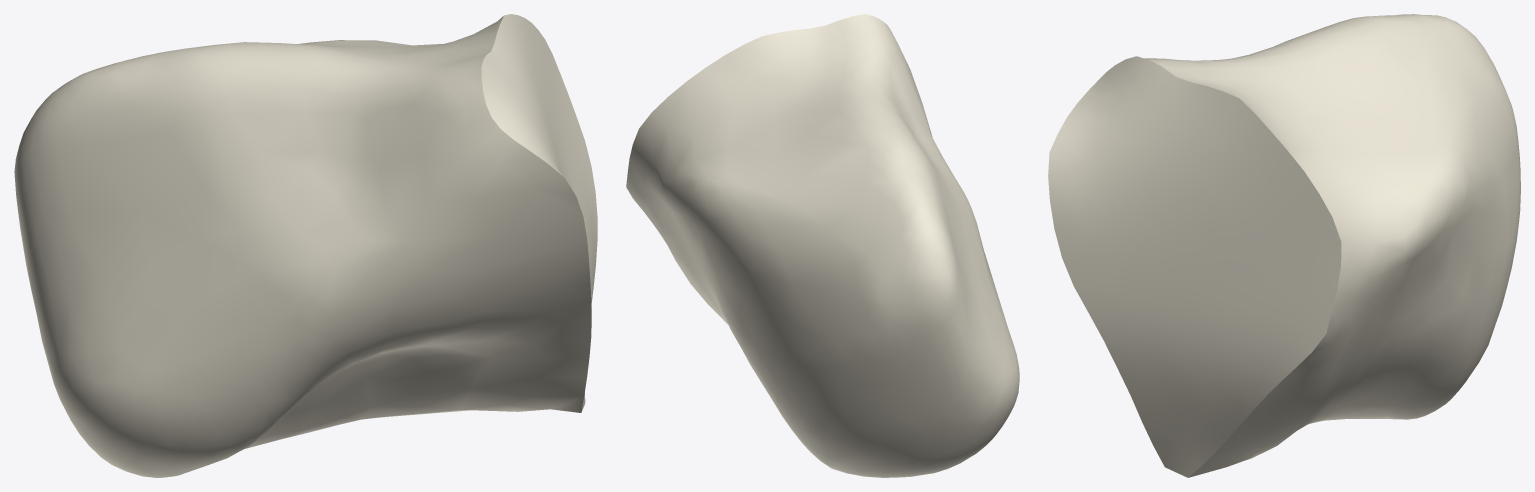
Rendered from fma11941_mm2403m.glb.
The picture shows the model from 3 angles, left to right: view 1: azimuth 30°, elevation 25°; view 2: azimuth 150°, elevation 25°; view 3: azimuth 270°, elevation 25°; orthographic projection. The views are drawn at different scales.
Parts seen in each view (by area): view 1: FMA11941_MM2403M; view 2: FMA11941_MM2403M; view 3: FMA11941_MM2403M.
Part boxes in pixels (left/top/right/bottom): FMA11941_MM2403M: left=14, top=14, right=597, bottom=477; FMA11941_MM2403M: left=626, top=14, right=1019, bottom=477; FMA11941_MM2403M: left=1048, top=14, right=1520, bottom=477.
Size of the model in its own units: 0.0152 by 0.0129 by 0.0132.
